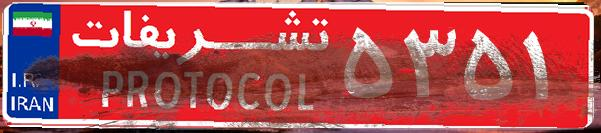1: (520, 20, 580, 115)
3: (400, 20, 460, 115)
5: (340, 20, 400, 115), (460, 20, 520, 115)
تشریفات: (60, 8, 340, 125)
